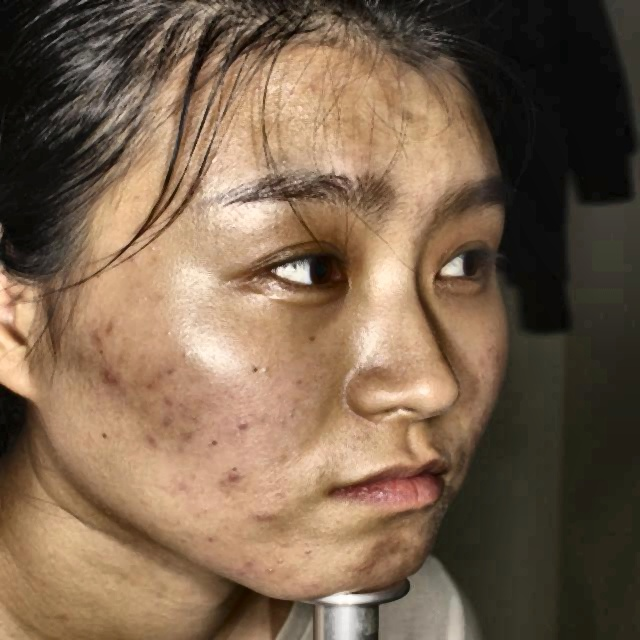comedone: (98, 363, 121, 393), (219, 467, 247, 489)
